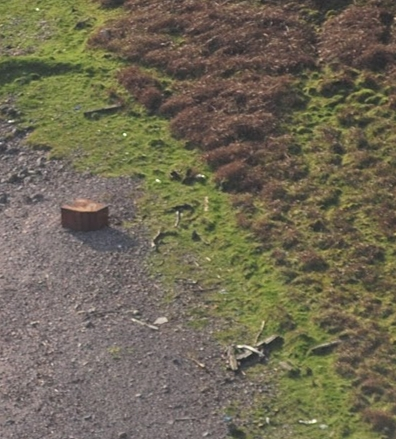cuboid: (55, 191, 116, 235)
straight_bar: (77, 93, 128, 123)
wood_together: (217, 319, 286, 377)
